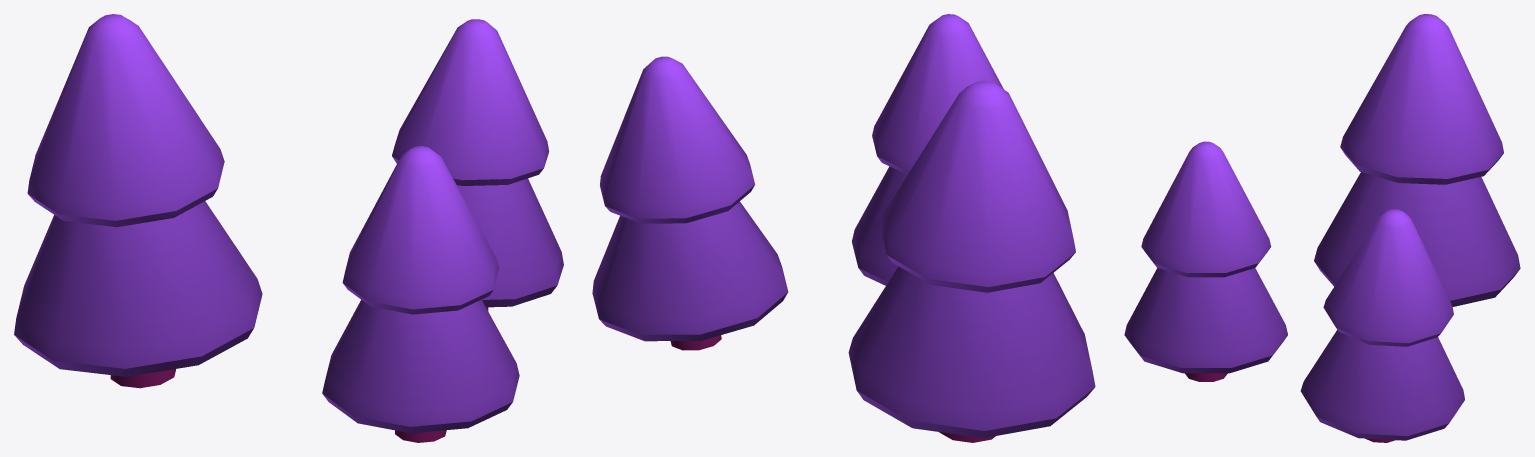
Rendered from alien_tree_group_2.obj.
3 views of the same model, side by side, from view 1: azimuth 30°, elevation 25°; view 2: azimuth 150°, elevation 25°; view 3: azimuth 270°, elevation 25° (orthographic). The views are drawn at different scales.
Parts seen in each view (by area): view 1: trees_B_small; view 2: trees_B_small; view 3: trees_B_small.
Boxes of the visible parts, x1,y1,x2,y2 form: trees_B_small: [14, 14, 563, 442]; trees_B_small: [592, 14, 1095, 442]; trees_B_small: [1124, 14, 1520, 442].
Bounding box in the file's own units: 1.33 × 0.9219 × 1.14.
Materials: 1 (1 with a texture image).
